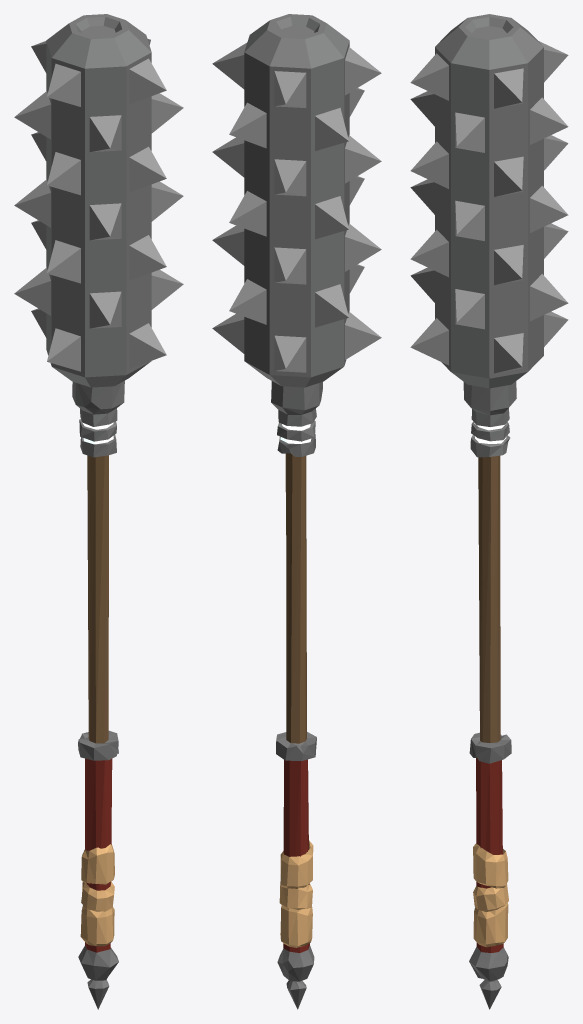
The model's file is SFFA_Weapon_Mace_Iron_007.fbx.
3 renders of one model, left to right at view 1: azimuth 30°, elevation 25°; view 2: azimuth 150°, elevation 25°; view 3: azimuth 270°, elevation 25°, orthographic.
Visible parts, largest first — view 1: SFFA_Weapon_Mace_Iron_007; view 2: SFFA_Weapon_Mace_Iron_007; view 3: SFFA_Weapon_Mace_Iron_007.
Boxes of the visible parts, x1,y1,x2,y2 form: SFFA_Weapon_Mace_Iron_007: (14, 14, 183, 1009); SFFA_Weapon_Mace_Iron_007: (212, 14, 381, 1009); SFFA_Weapon_Mace_Iron_007: (410, 14, 568, 1009).
Bounding box in the file's own units: 15.67 × 107 × 15.67.
